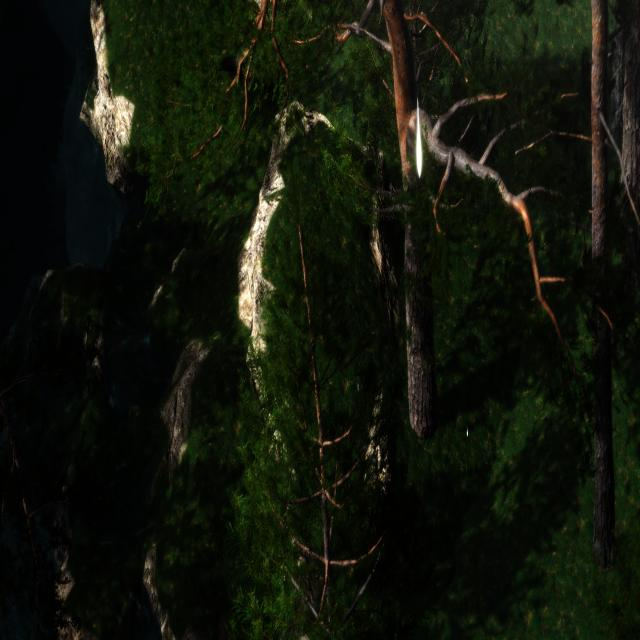Human: (216, 28, 282, 120)
